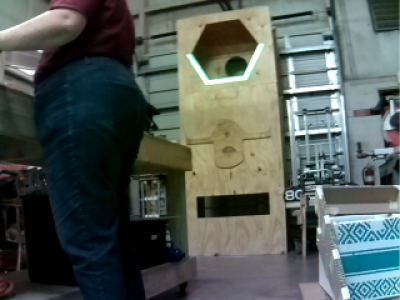target: (186, 43, 265, 86)
